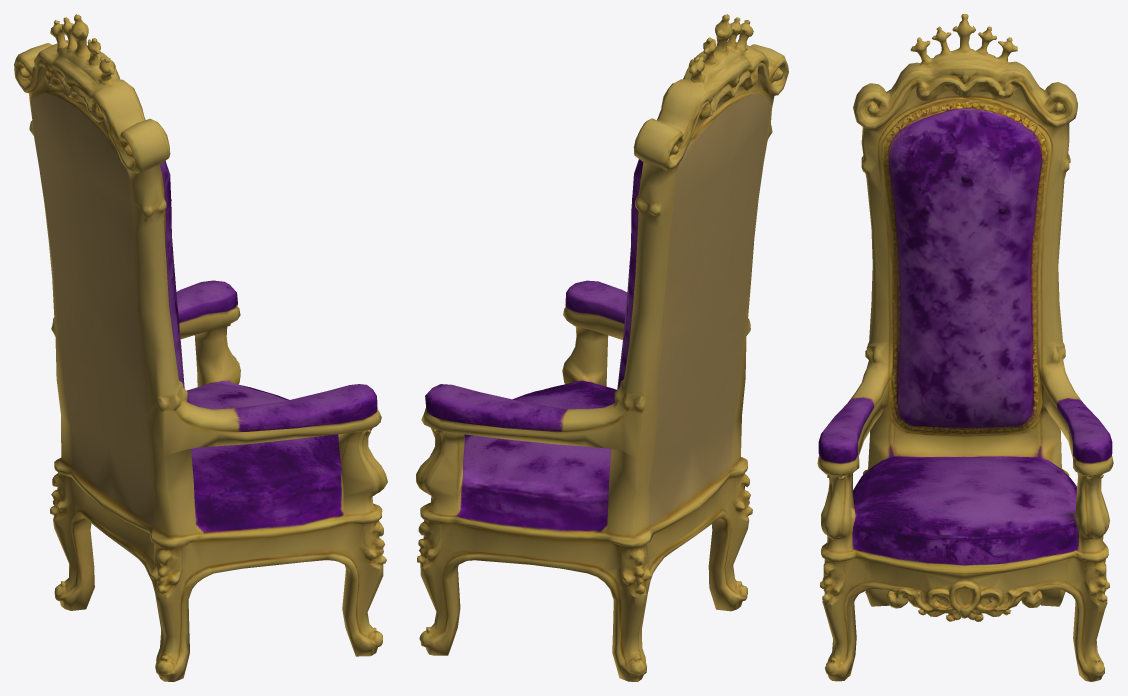
Rendered from r33-throne.glb.
The picture shows the model from 3 angles, left to right: view 1: azimuth 30°, elevation 25°; view 2: azimuth 150°, elevation 25°; view 3: azimuth 270°, elevation 25°; orthographic projection. The views are drawn at different scales.
Visible parts, largest first — view 1: tripo_node_19be09dd-6d68-4fe5-90ab-7768250cd392; view 2: tripo_node_19be09dd-6d68-4fe5-90ab-7768250cd392; view 3: tripo_node_19be09dd-6d68-4fe5-90ab-7768250cd392.
Boxes of the visible parts, bbox=[...] form: tripo_node_19be09dd-6d68-4fe5-90ab-7768250cd392: bbox=[14, 14, 387, 681]; tripo_node_19be09dd-6d68-4fe5-90ab-7768250cd392: bbox=[416, 14, 788, 681]; tripo_node_19be09dd-6d68-4fe5-90ab-7768250cd392: bbox=[817, 14, 1113, 681].
Size of the model in its own units: 0.4512 by 0.998 by 0.4707.
1 material, 1 textured.
